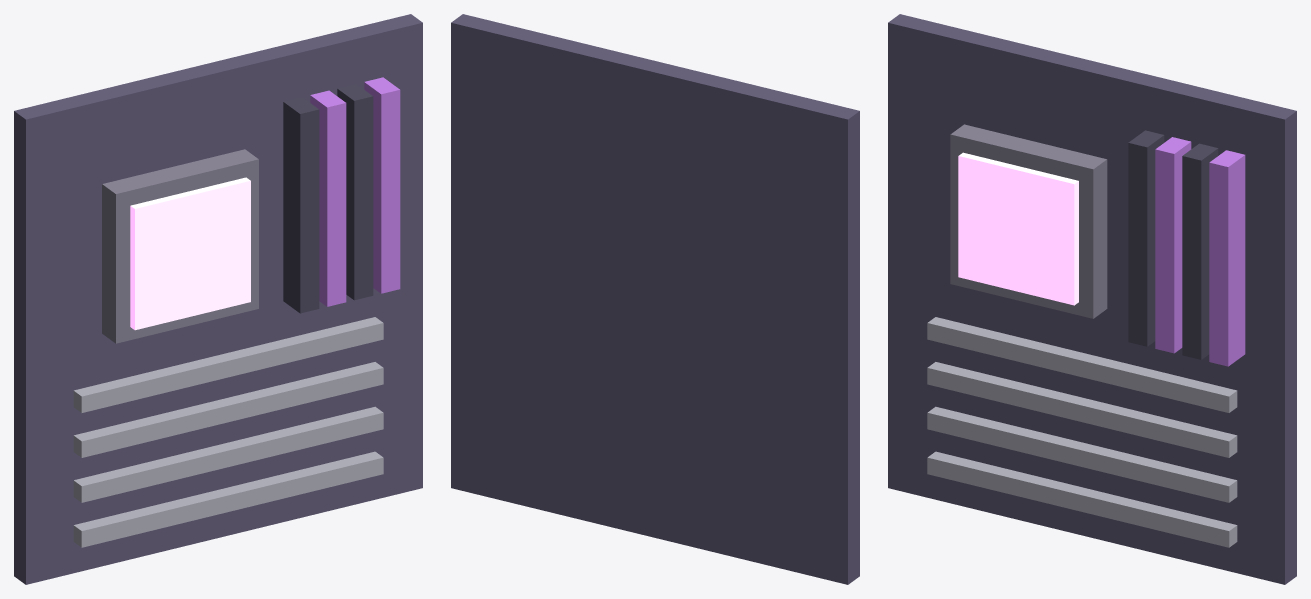
File: motherboard.glb
The picture shows the model from 3 angles, left to right: view 1: azimuth 30°, elevation 25°; view 2: azimuth 150°, elevation 25°; view 3: azimuth 330°, elevation 25°; orthographic projection.
Parts seen in each view (by area): view 1: part (×11); view 2: part; view 3: part (×11).
Part boxes in pixels (x1,y1,x2,y2): part (×11): (14, 14, 422, 584); part: (451, 14, 859, 584); part (×11): (888, 14, 1296, 584).
Size of the model in its own units: 2.5 by 2.8 by 0.34.
